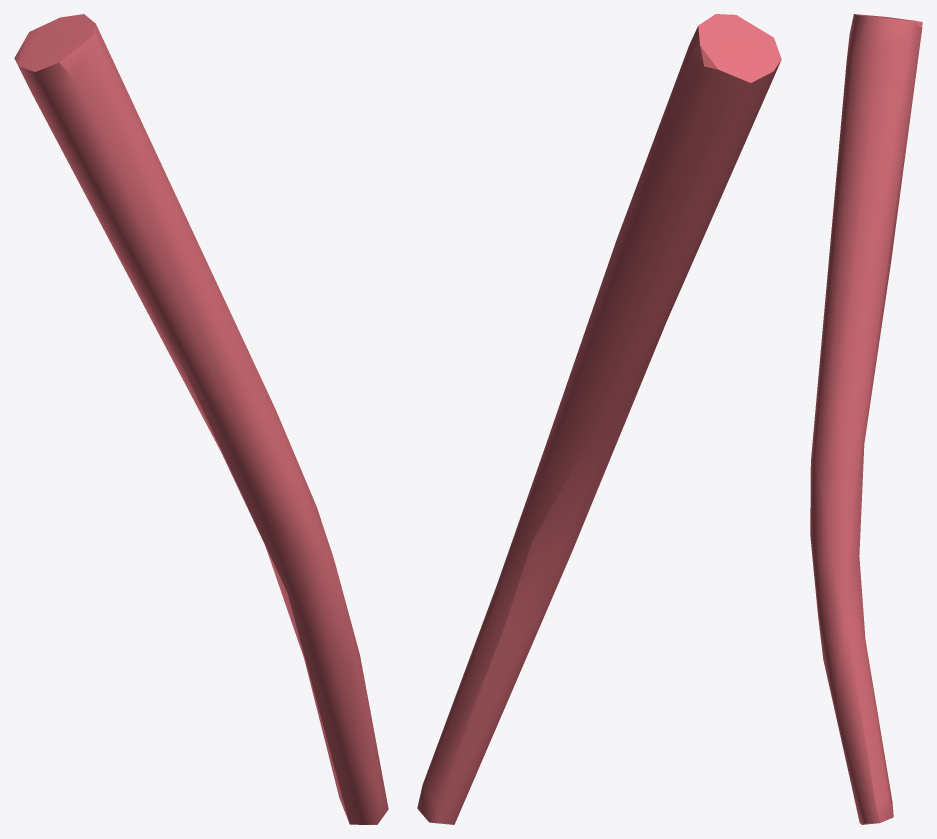
Rendered from fma8645_fj2886.glb.
3 renders of one model, left to right at view 1: azimuth 30°, elevation 25°; view 2: azimuth 150°, elevation 25°; view 3: azimuth 270°, elevation 25°, orthographic. The views are drawn at different scales.
Visible parts, largest first — view 1: FMA8645_FJ2886; view 2: FMA8645_FJ2886; view 3: FMA8645_FJ2886.
Boxes of the visible parts, x1=… form: FMA8645_FJ2886: x1=14, y1=14, x2=388, y2=824; FMA8645_FJ2886: x1=417, y1=14, x2=781, y2=824; FMA8645_FJ2886: x1=810, y1=14, x2=922, y2=824.
Bounding box in the file's own units: 0.016 × 0.037 × 0.00539.
